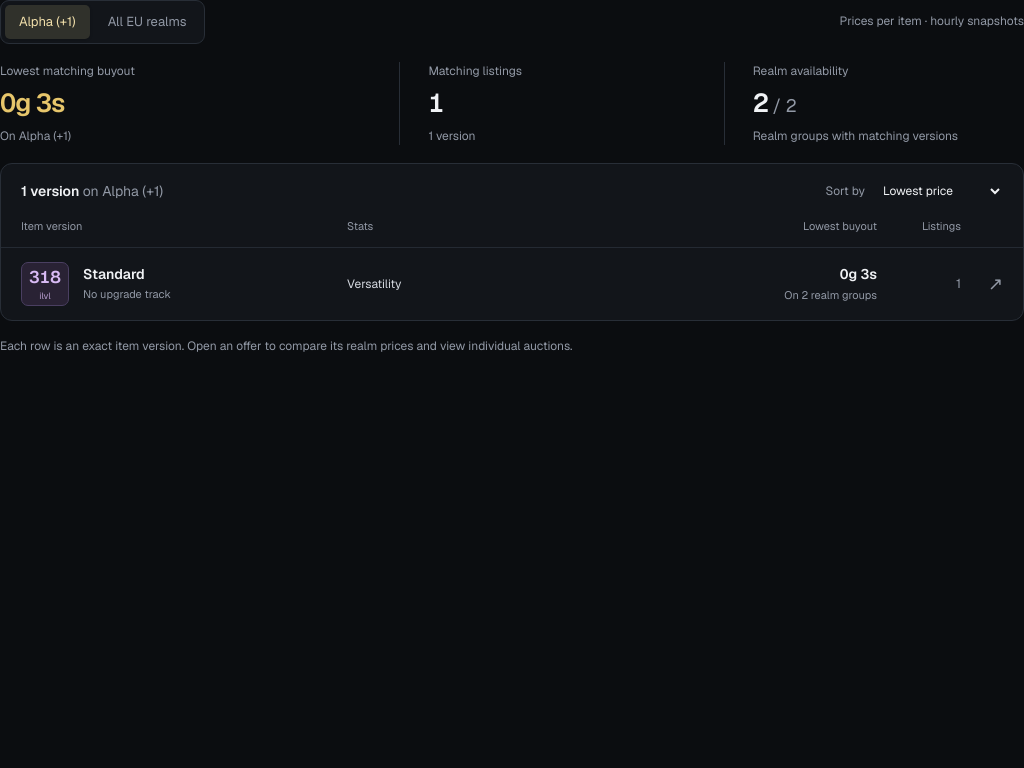
Test: a late response from the previous realm cannot replace the selected realm's listings
Click the button with aria-label "View listings for ilvl 318" at (45, 284), box [1,246,1023,320]
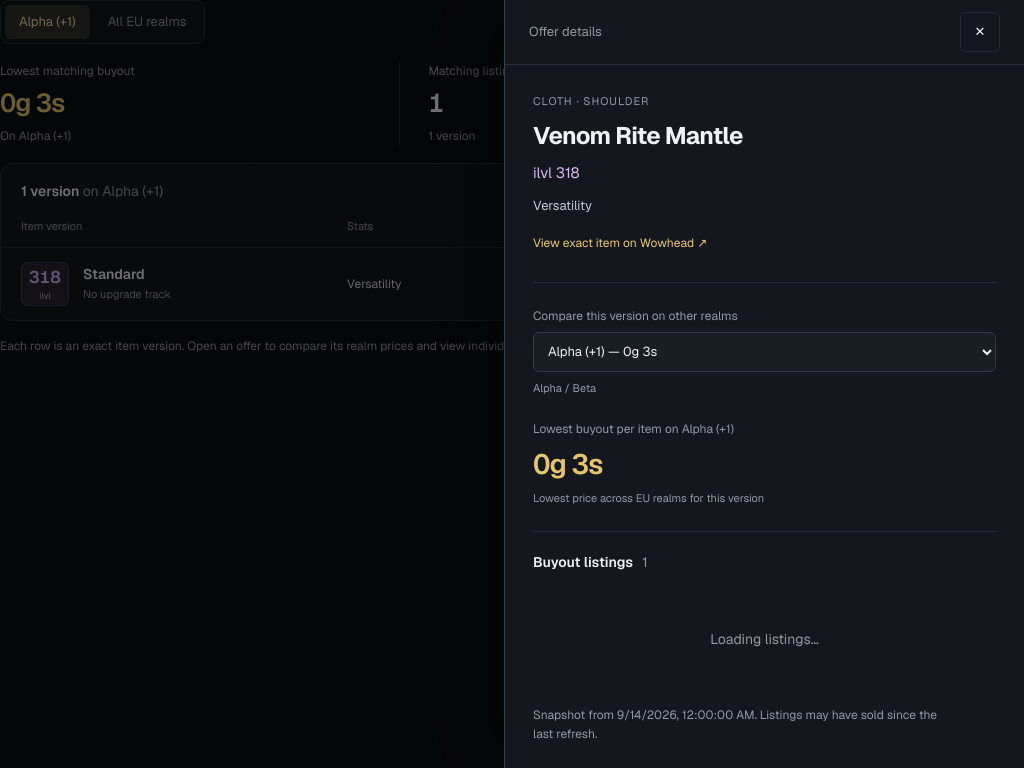
Select "Gamma — 0g 6s" in the dropdown labelled "Compare this version on other realms" at (764, 352), box [533,332,996,372]
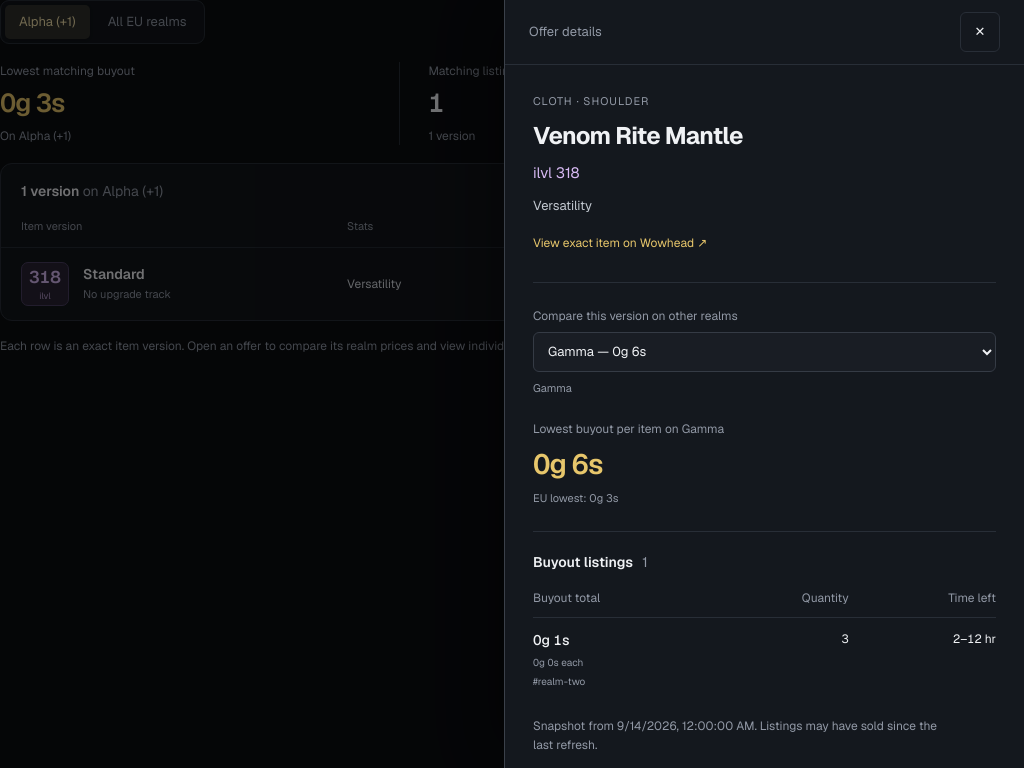
Check: the link "#realm-two" is shown, box [533,674,585,688]
